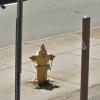Hydrant: (24, 38, 61, 92)
